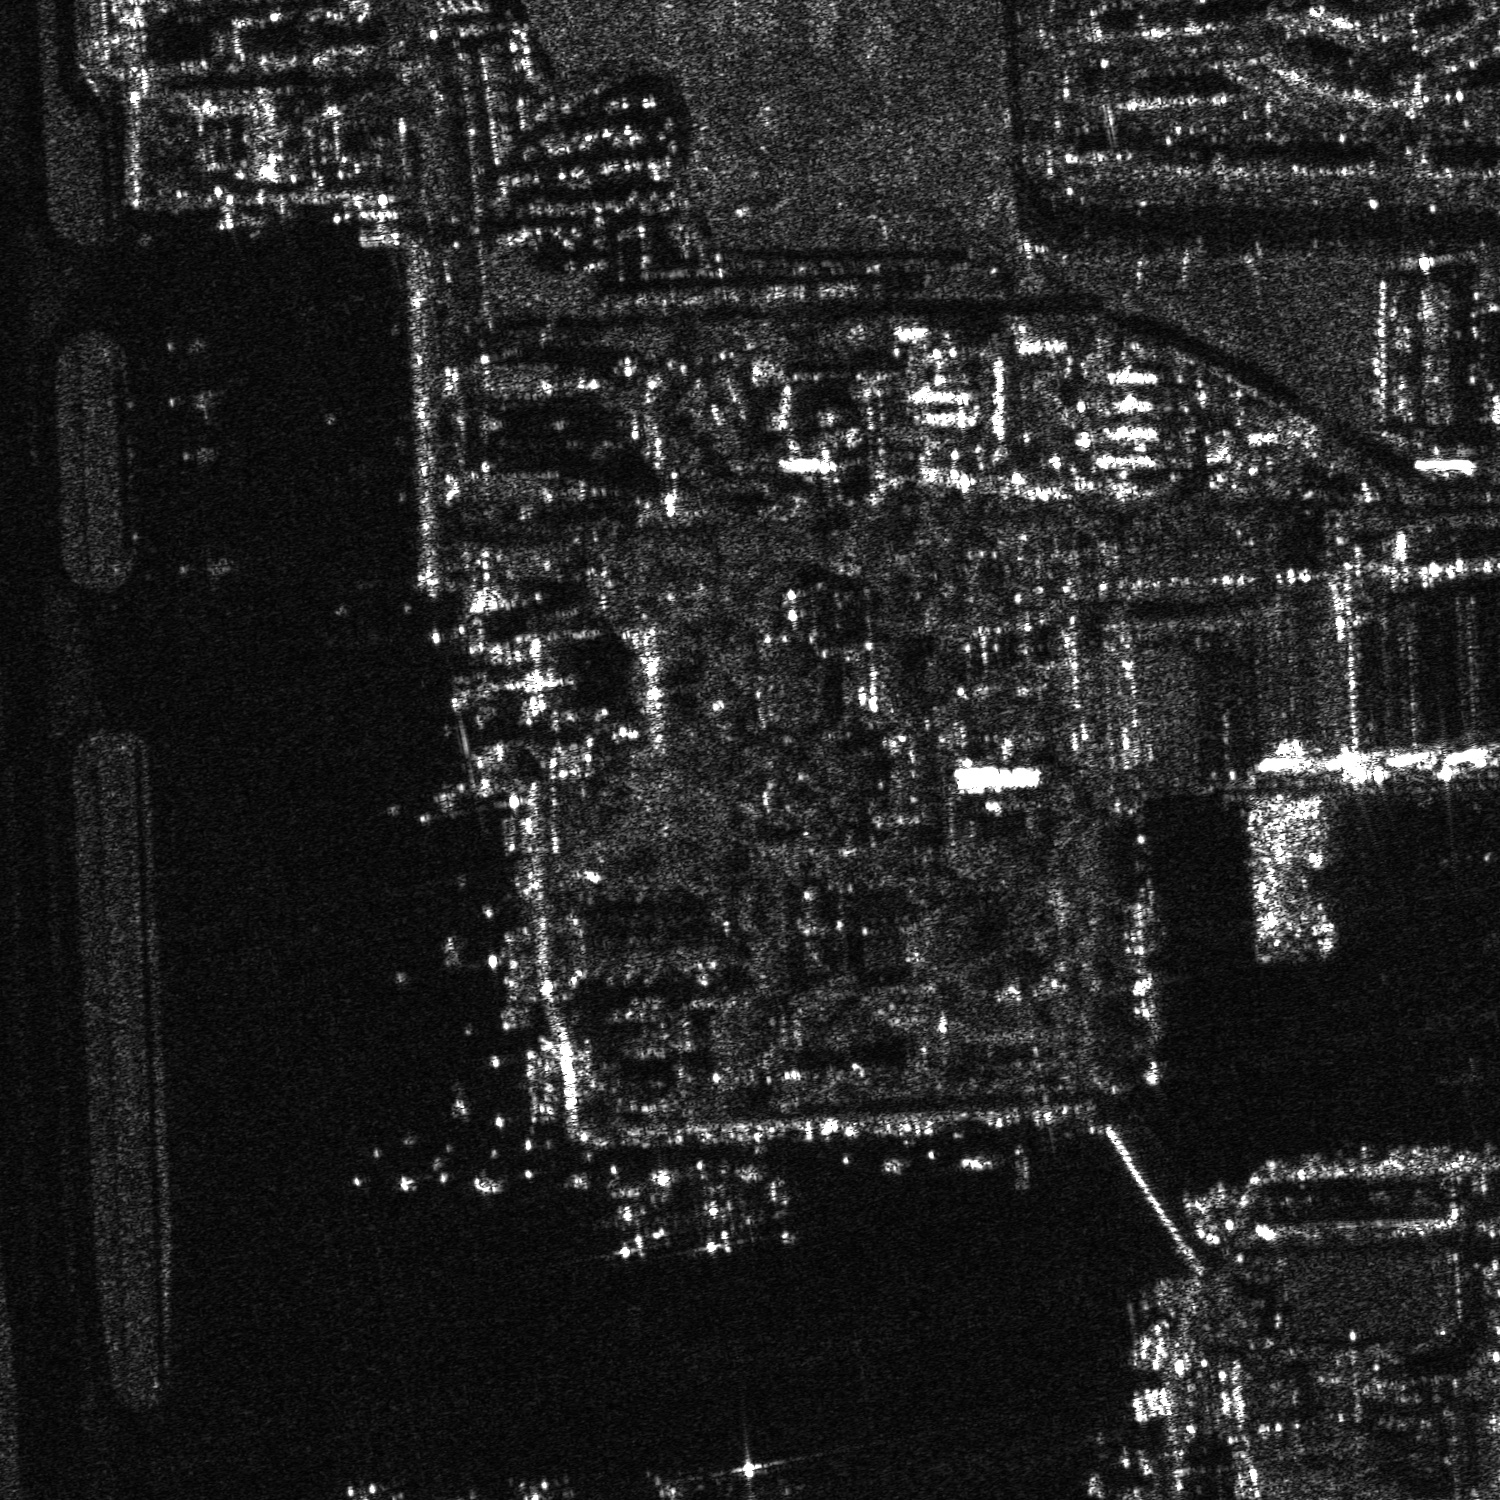ARJ21: (757, 1163, 799, 1245), (159, 378, 228, 422), (170, 433, 227, 473)
Boeing737: (592, 1176, 680, 1262)
other: (690, 1172, 755, 1255), (150, 323, 217, 365), (177, 543, 240, 585), (338, 1471, 385, 1499), (647, 1474, 695, 1499), (516, 1478, 565, 1499)
